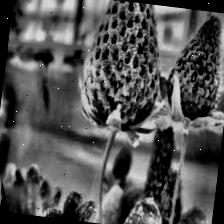Powdery Mildew Fruit: (76, 0, 169, 135), (158, 7, 224, 128)
